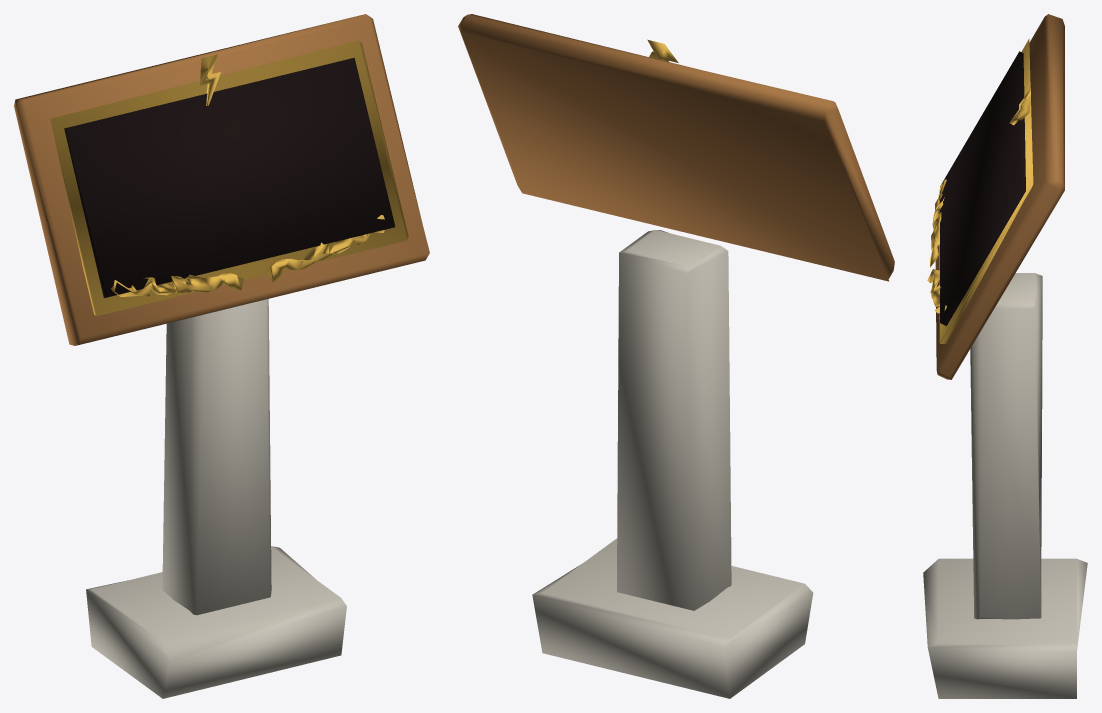
File: decor_plaque_t1_bronze.glb
3 views of the same model, side by side, from view 1: azimuth 30°, elevation 25°; view 2: azimuth 150°, elevation 25°; view 3: azimuth 270°, elevation 25° (orthographic). The views are drawn at different scales.
Parts seen in each view (by area): view 1: marble, black_glaze, bronze, gold; view 2: marble, bronze; view 3: marble, black_glaze, bronze, gold.
Part boxes in pixels (x1,y1,x2,y2): marble: (86,299,346,698); black_glaze: (64,57,395,297); bronze: (14,14,429,345); gold: (50,40,408,316); marble: (532,230,813,698); bronze: (458,14,894,281); marble: (923,273,1087,698); black_glaze: (940,51,1025,325); bronze: (935,14,1064,379); gold: (927,38,1033,343).
Size of the model in its own units: 0.52 by 0.8142 by 0.2141.
